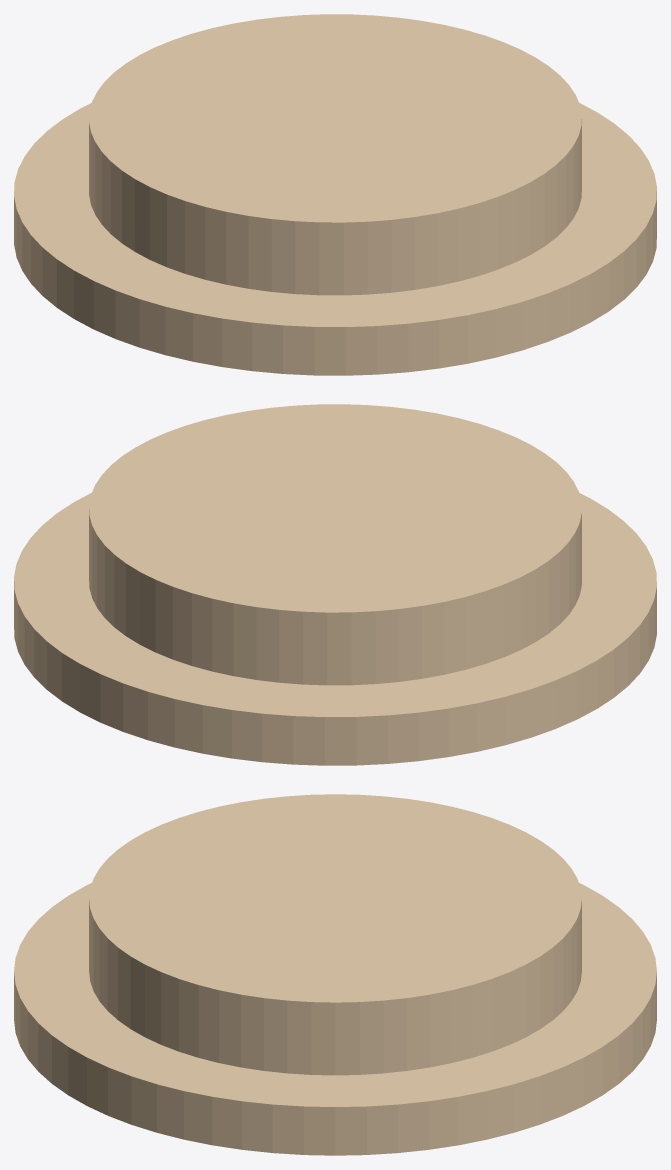
Rendered from stupa_s2.glb.
3 renders of one model, top to bottom at view 1: azimuth 30°, elevation 25°; view 2: azimuth 150°, elevation 25°; view 3: azimuth 270°, elevation 25°, orthographic.
Parts seen in each view (by area): view 1: stupa; view 2: stupa; view 3: stupa.
Boxes of the visible parts, x1,y1,x2,y2 form: stupa: (14,14,656,375); stupa: (14,404,656,765); stupa: (14,794,656,1155).
Size of the model in its own units: 48 by 10 by 48.
